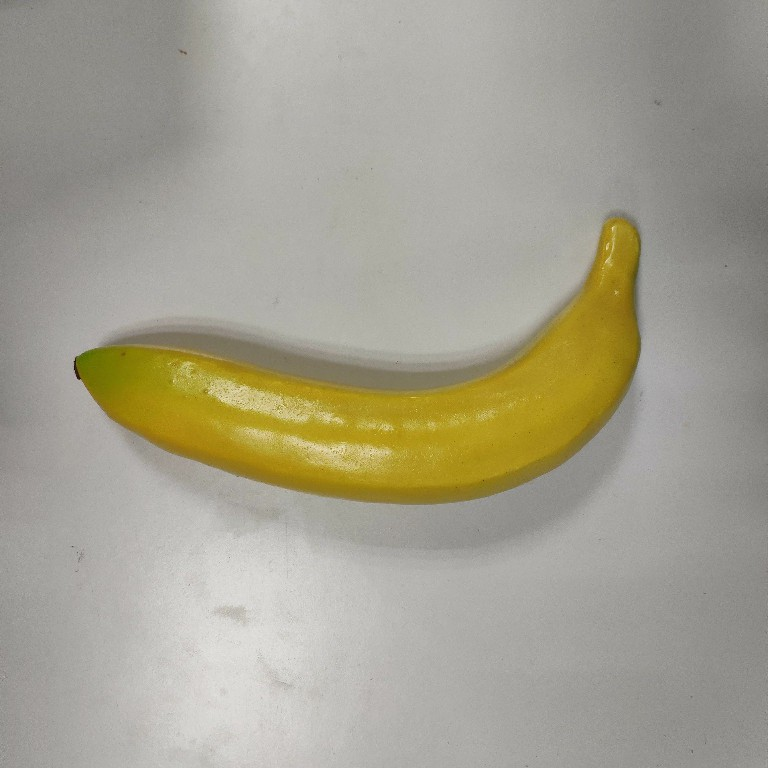fruit_banana: (67, 202, 656, 518)
